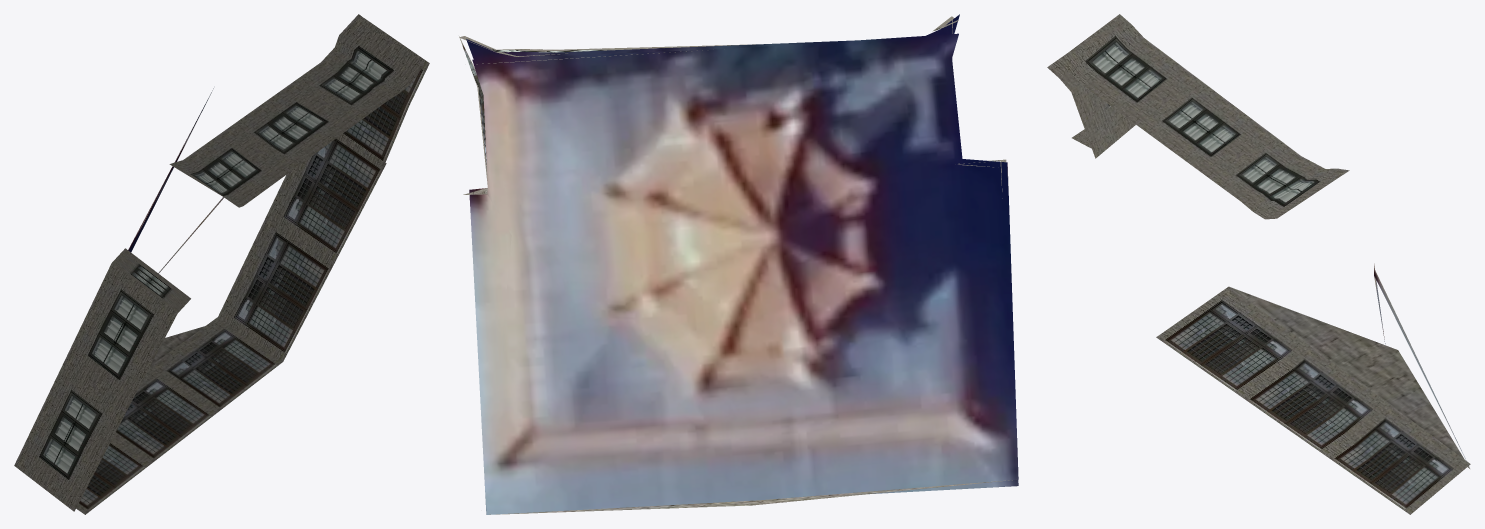
File: tile_LOD4_r13_c3.glb
3 renders of one model, left to right at view 1: azimuth 30°, elevation 25°; view 2: azimuth 150°, elevation 25°; view 3: azimuth 270°, elevation 25°, orthographic. The views are drawn at different scales.
Bounding box in the file's own units: 21.5 × 17 × 17.5.
Materials: 4 (4 with a texture image).
